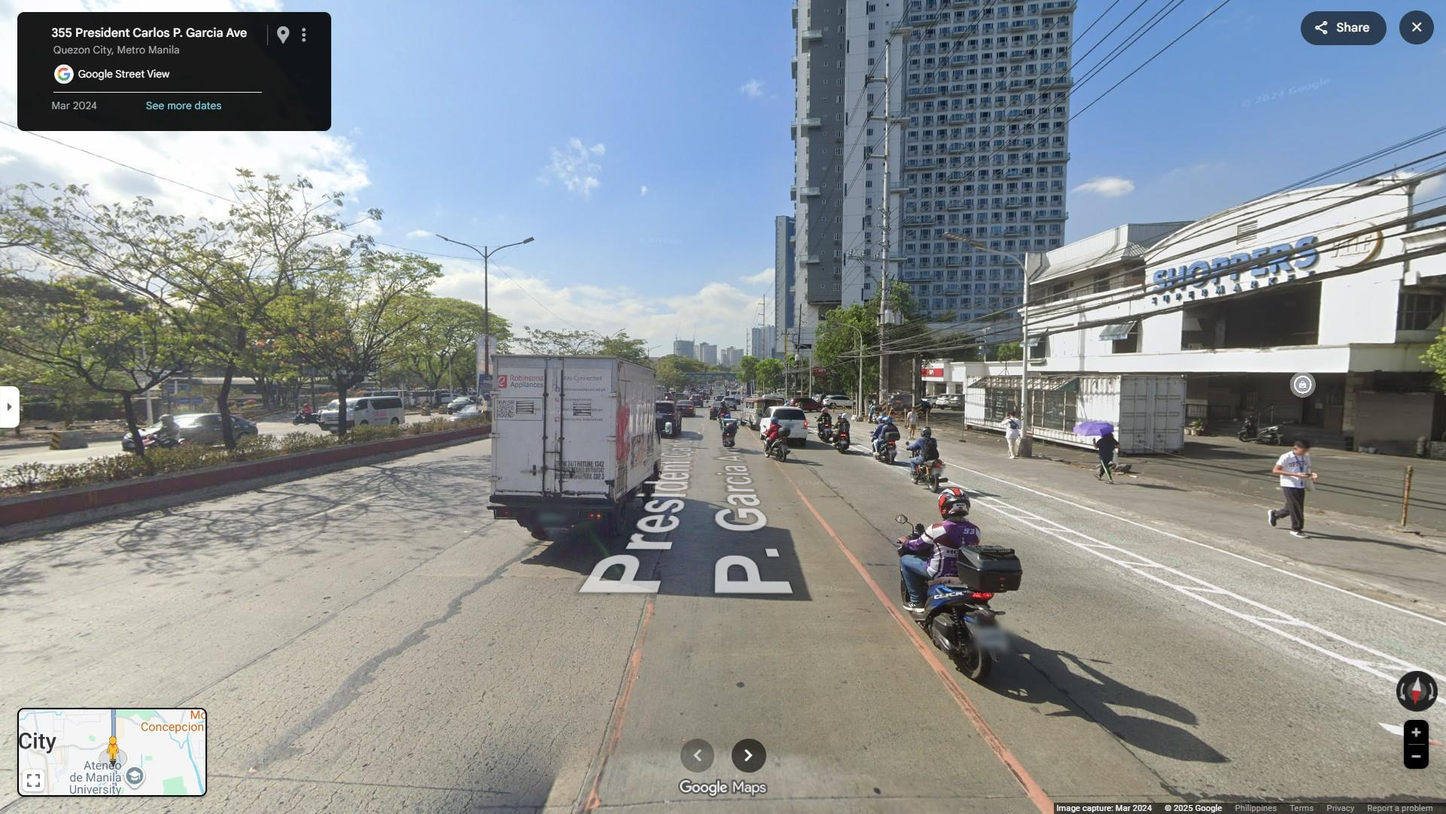pedestrian: (1267, 437, 1319, 539), (1092, 425, 1121, 484), (1001, 411, 1022, 460), (906, 406, 920, 440), (867, 402, 875, 423)
